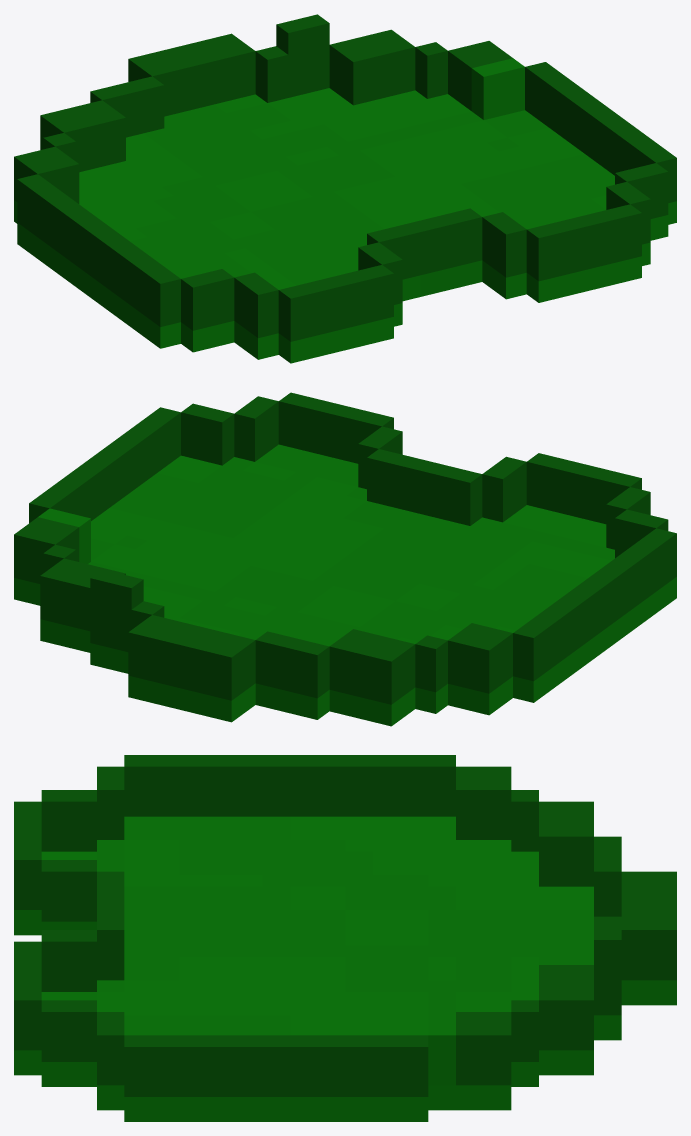
The model's file is water_lily.obj.
3 renders of one model, top to bottom at view 1: azimuth 30°, elevation 25°; view 2: azimuth 150°, elevation 25°; view 3: azimuth 270°, elevation 25°, orthographic. The views are drawn at different scales.
Bounding box in the file's own units: 2.5 × 0.4 × 2.4.
Materials: 1 (1 with a texture image).
